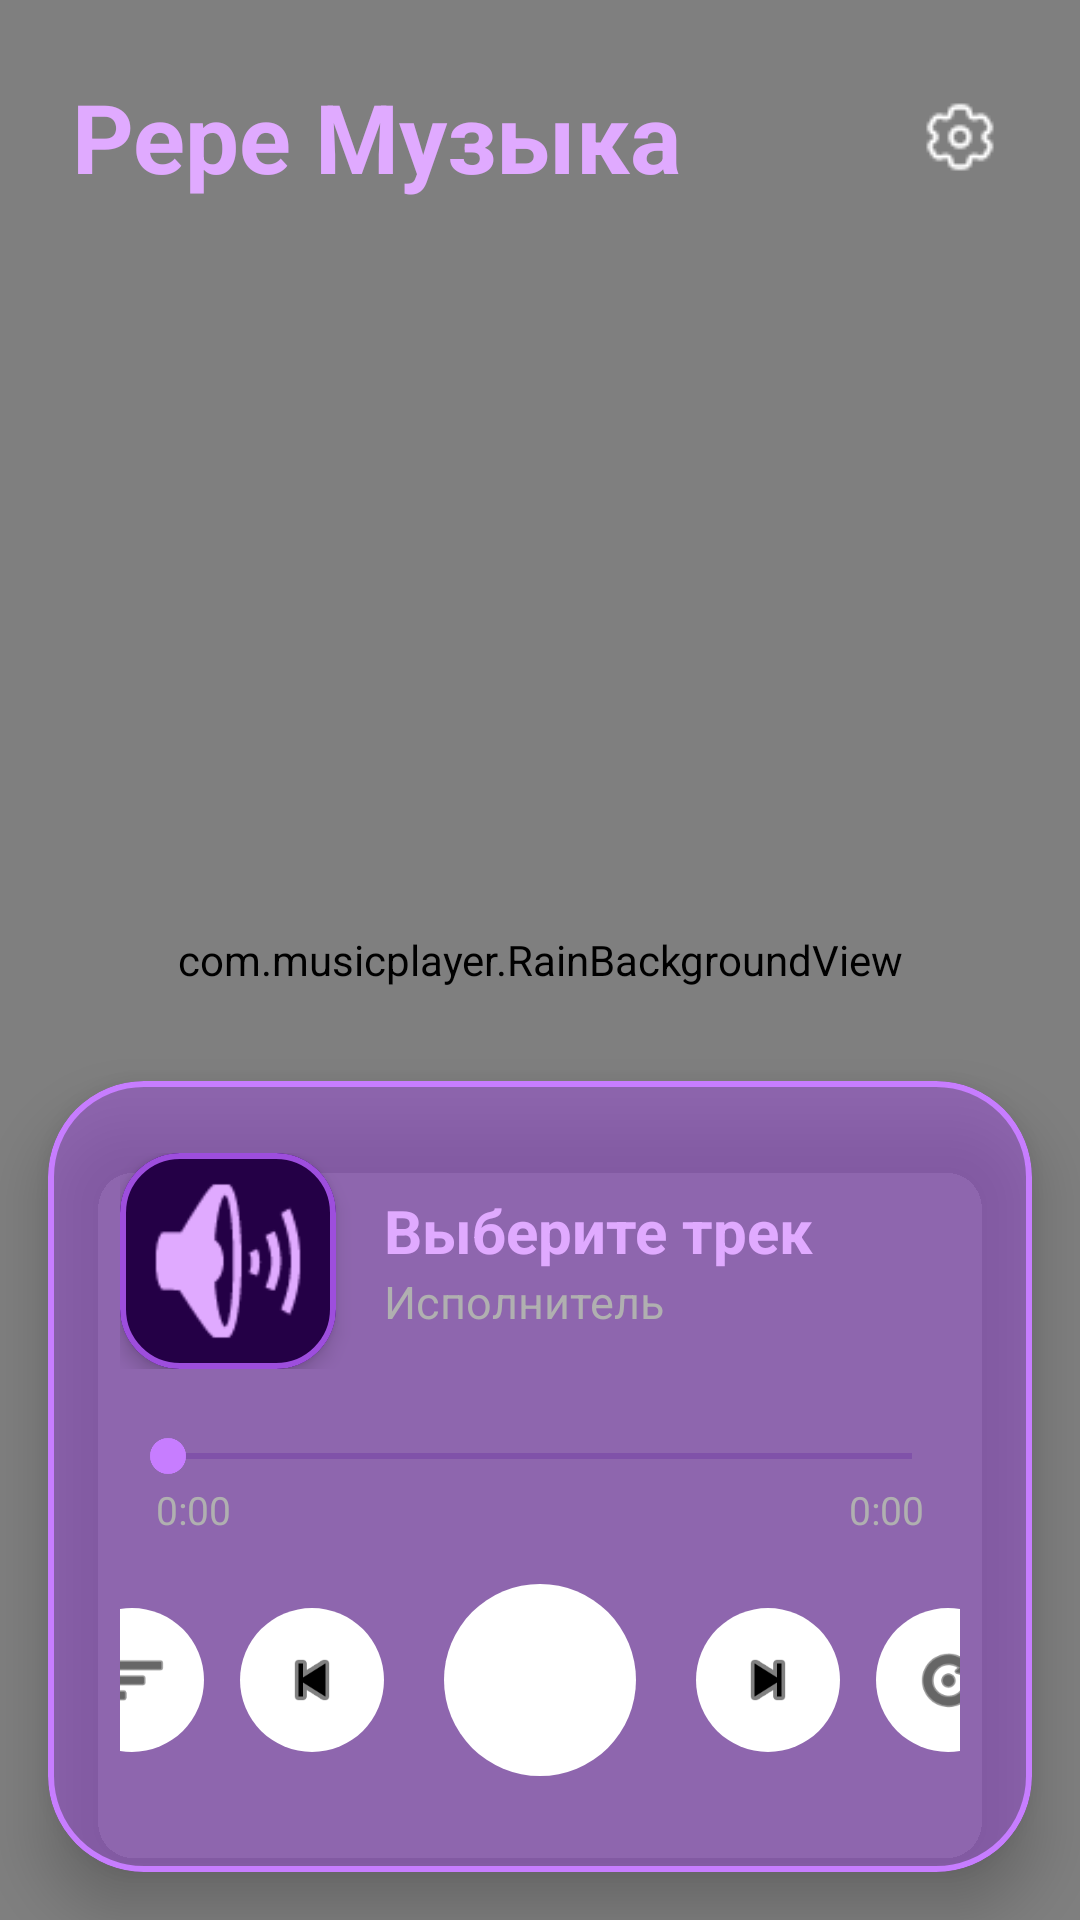

Locate icon controls on the screen. Image size 1080w x 1920h, boxes as (x1=x1, y1=y1, x2=x2, y2=y2).
msg settings solar: (x1=926, y1=103, x2=994, y2=171)
next: (x1=696, y1=1608, x2=840, y2=1752)
previous: (x1=240, y1=1608, x2=384, y2=1752)
